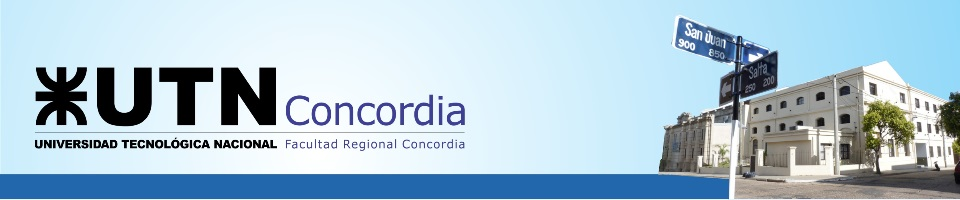utn: (36, 66, 92, 128)
